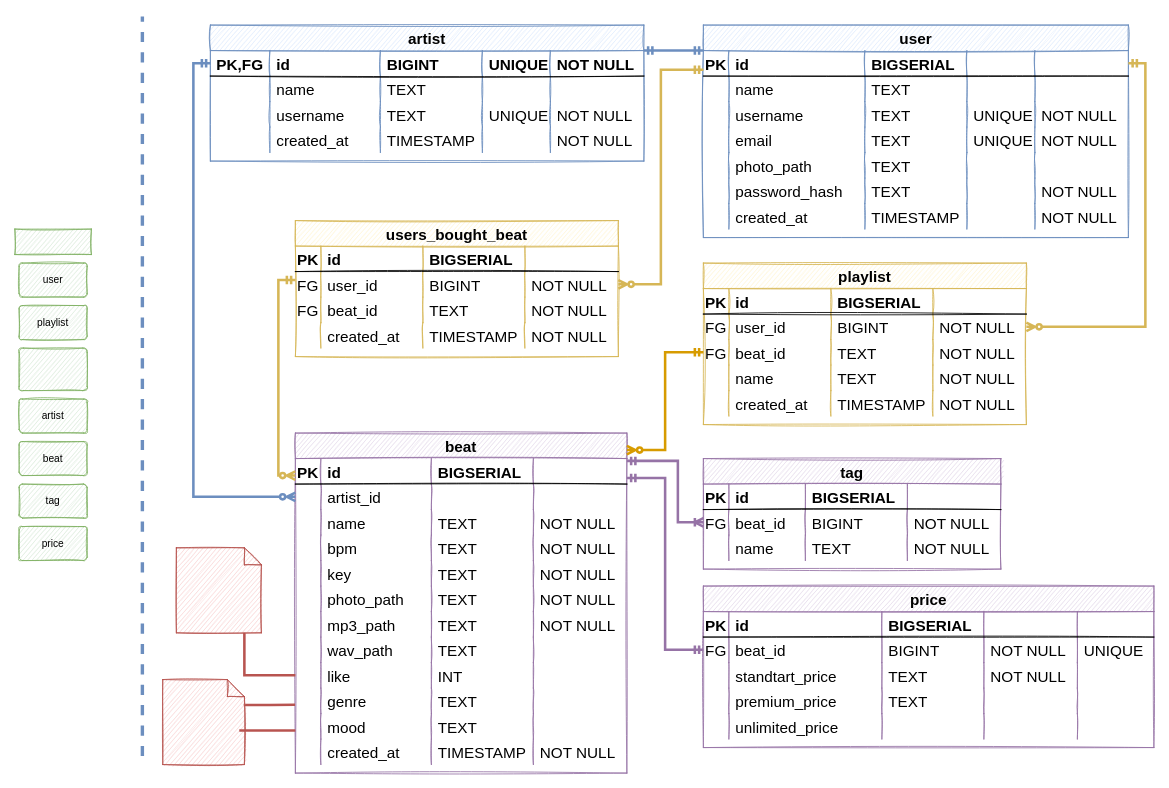
This 1169x788 diagram has some shape labels left out. Each missing label, with the centre of its shape:
default: "All": (203,722)
default: 0: (218,590)
entities: (52,241)
users bought beats: (52,369)
